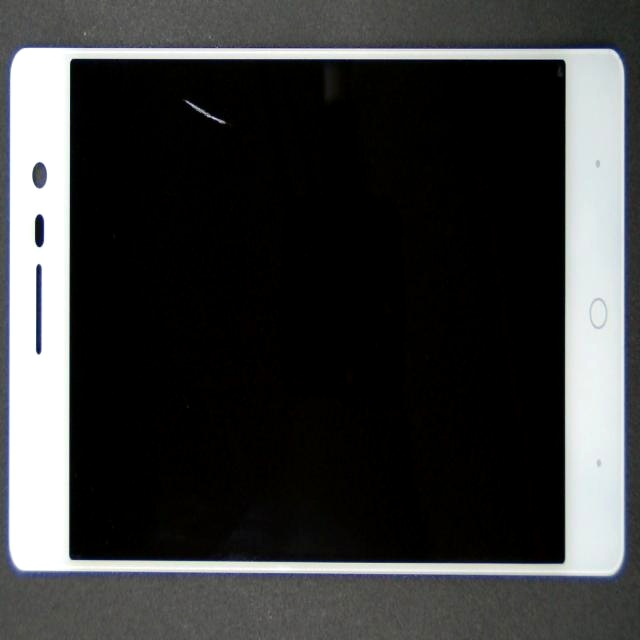scratch: (65, 52, 295, 194)
